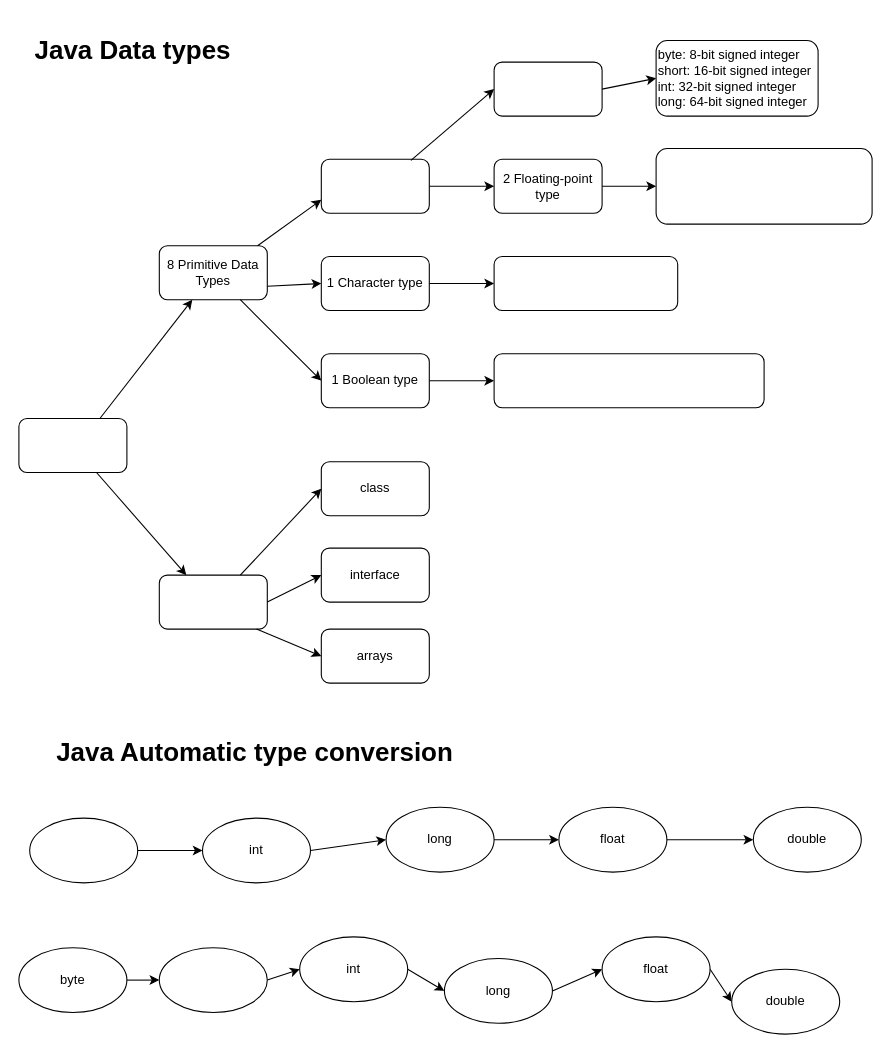
The diagram is 891 pixels wide and 1053 high, and some of its shapes have lost their labels. Here are the shapes that lost their labels. From the top down, the centre of each, then its label:
At pixel 547 88: "4 Integer type".
At pixel 374 185: "6 Numeric type".
At pixel 763 185: "float: 32-bit floating-point number double: 64-bit floating-point number".
At pixel 585 282: "char: 16-bit Unicode character".
At pixel 628 380: "boolean: 8-bit Represents a true or false value".
At pixel 72 445: "Java Data Type".
At pixel 212 601: "3 Reference Data Types".
At pixel 83 850: "char".
At pixel 212 980: "short".
